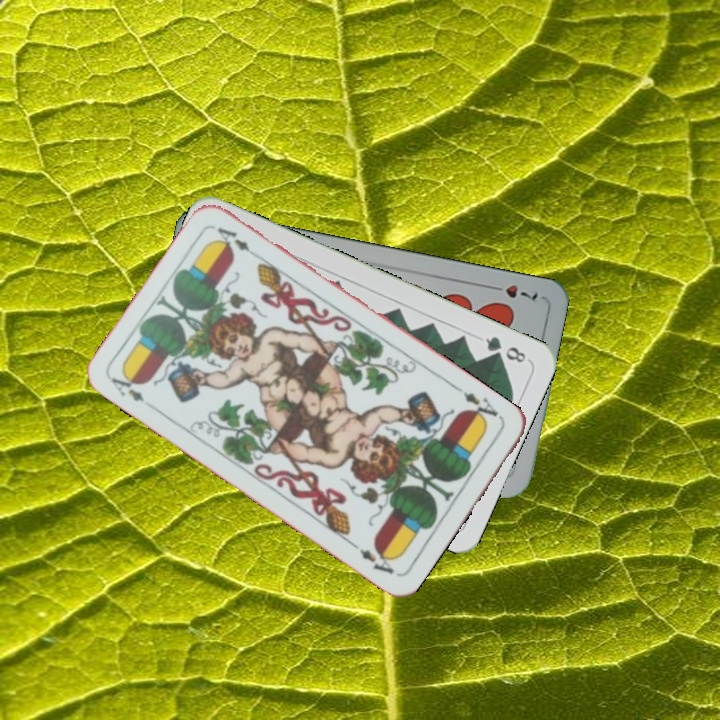EA: (453, 383, 505, 428), (107, 368, 147, 405)
G8: (481, 332, 529, 366)
H7: (484, 280, 541, 303)
